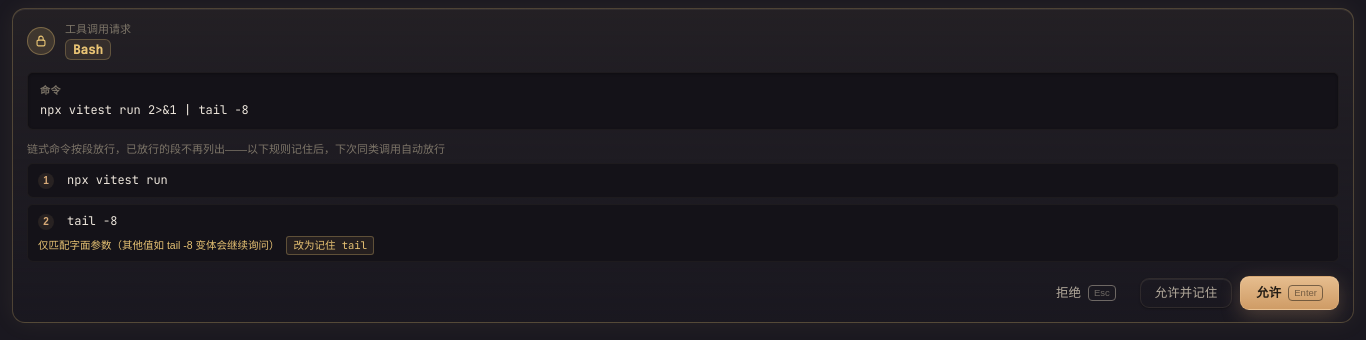
Scenario: PermissionDialog — 允许并记住（多段 + 参数透明化） › 末尾数字参数（tail -8 形态）提示并可一键改宽
This screenshot has width=1366, height=340.
Check: the element showing "仅匹配字面参数（其他值如 tail -8 变体会继续询问） 改为记住 tail" is shown, box [38,236,374,255]
Click the button "改为记住 tail" at (330, 245), box [286,236,374,255]
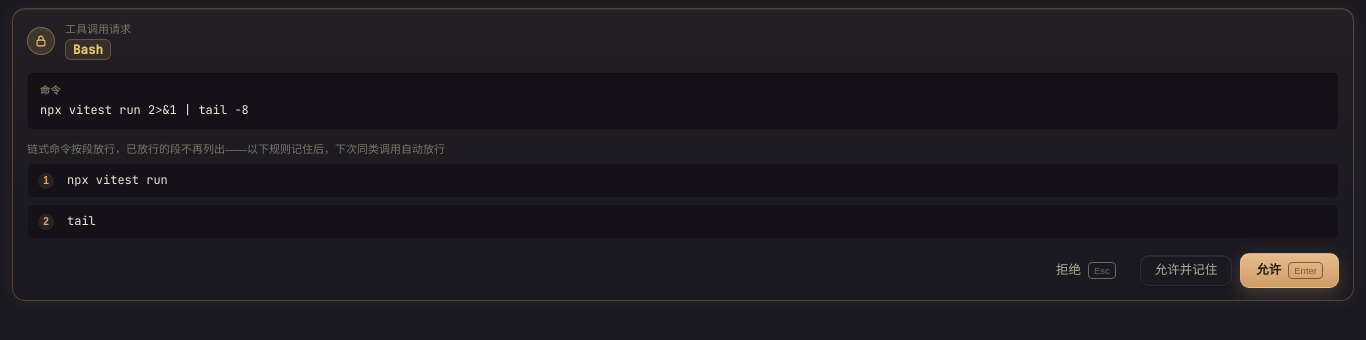
Check: the 2nd field named "规则值" holds "tail", box [62,211,1328,232]
